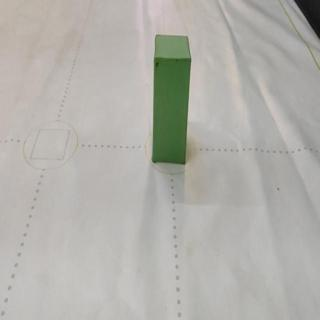greenbox: (151, 30, 193, 165)
